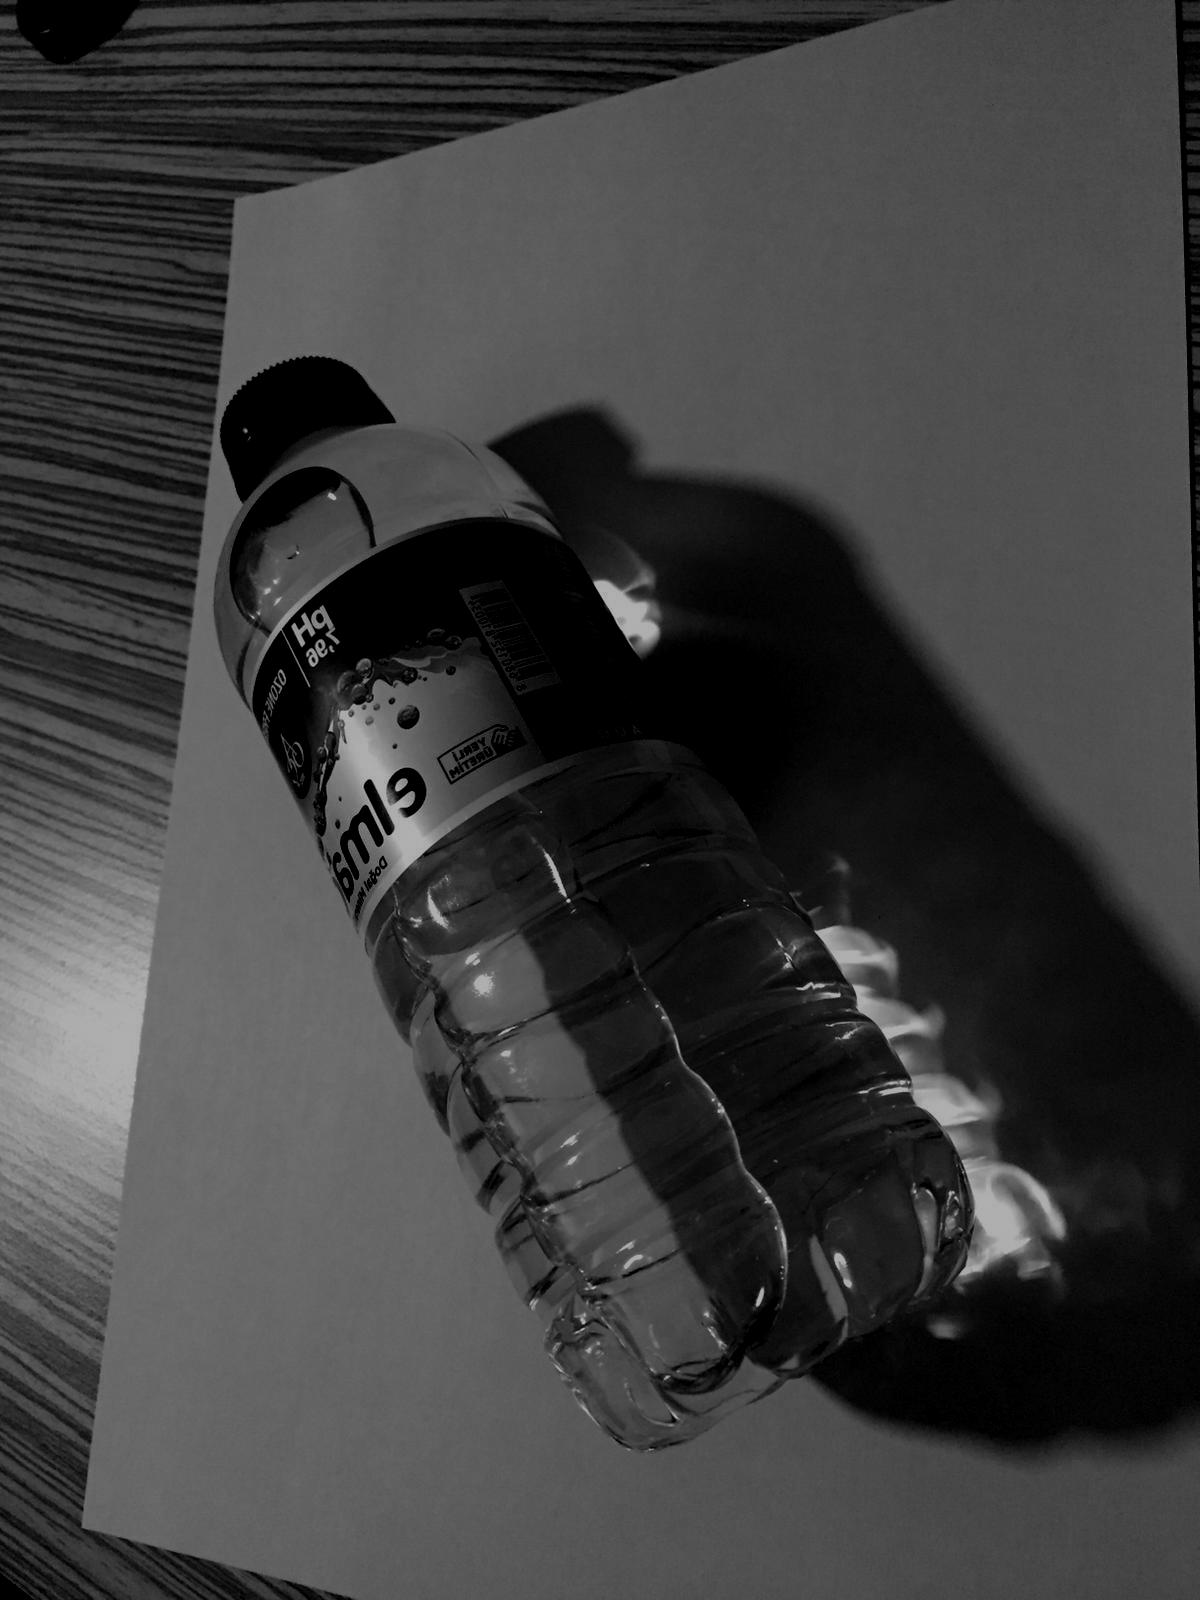bottle: (203, 358, 966, 1455)
